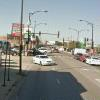Car: (30, 48, 57, 71)
